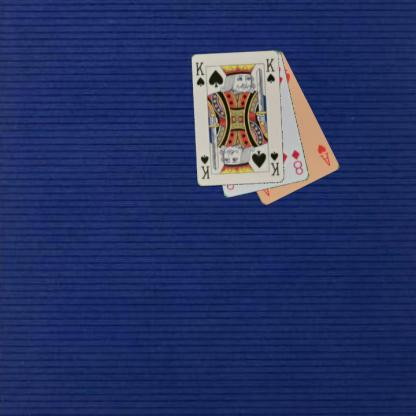8d: (289, 148, 304, 176)
Ah: (315, 142, 332, 167)
Ks: (193, 59, 206, 88), (268, 149, 281, 177)
